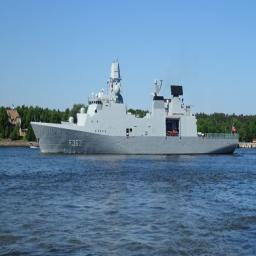Fragata: (29, 58, 242, 160)
